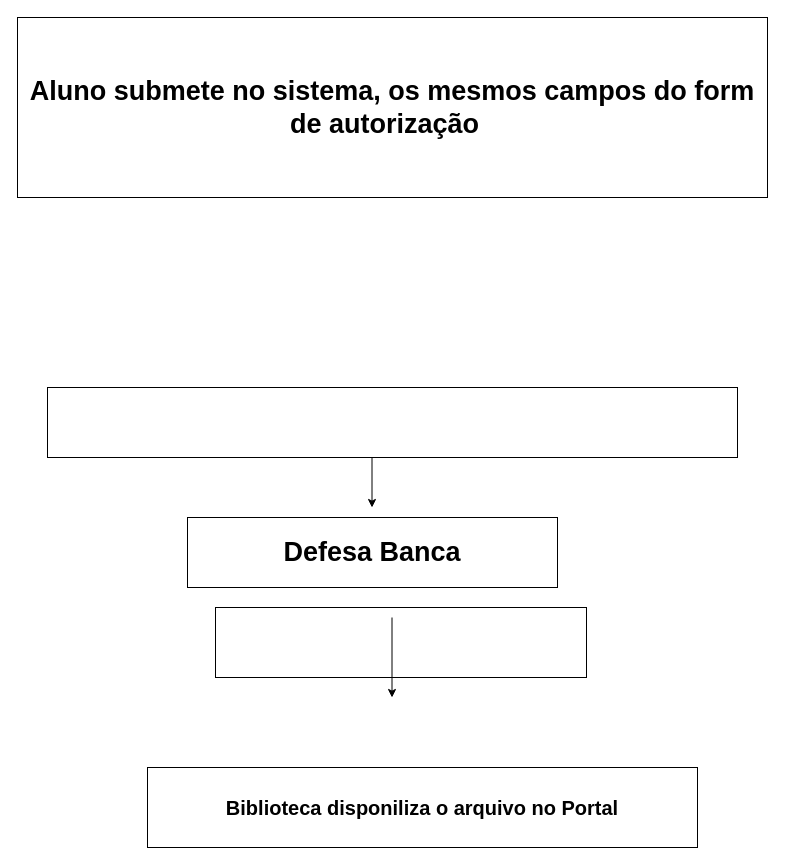
Image size: 785x865. Some labels were removed from this diagram. The shapes that lost their labels are listed below. From the top down, each one's centre as x and y in pixels, then its label:
At pixel 392 422: "Aluno TEM o arquivo PDF - pré BANCA".
At pixel 400 642: "Substituição Arquivo".
